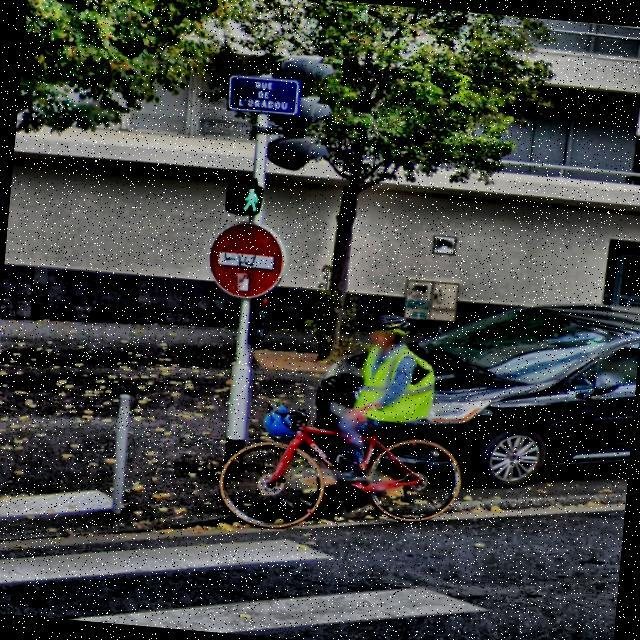green_light: (238, 182, 260, 213)
